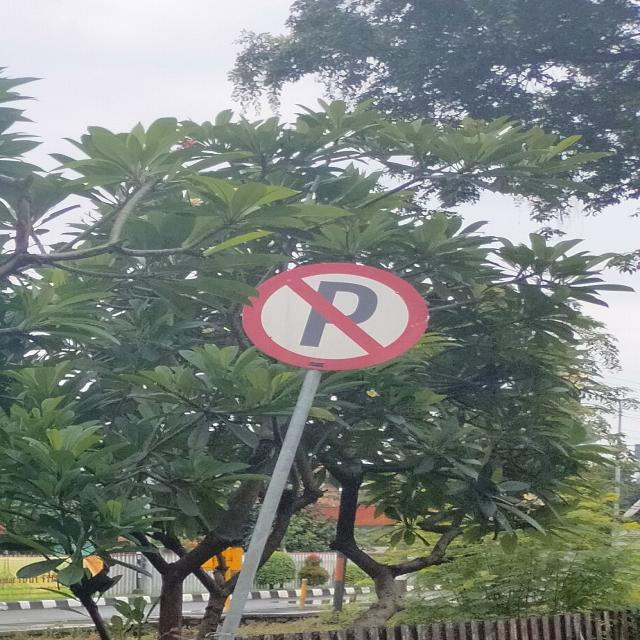Dilarang Parkir: (241, 260, 428, 372)
